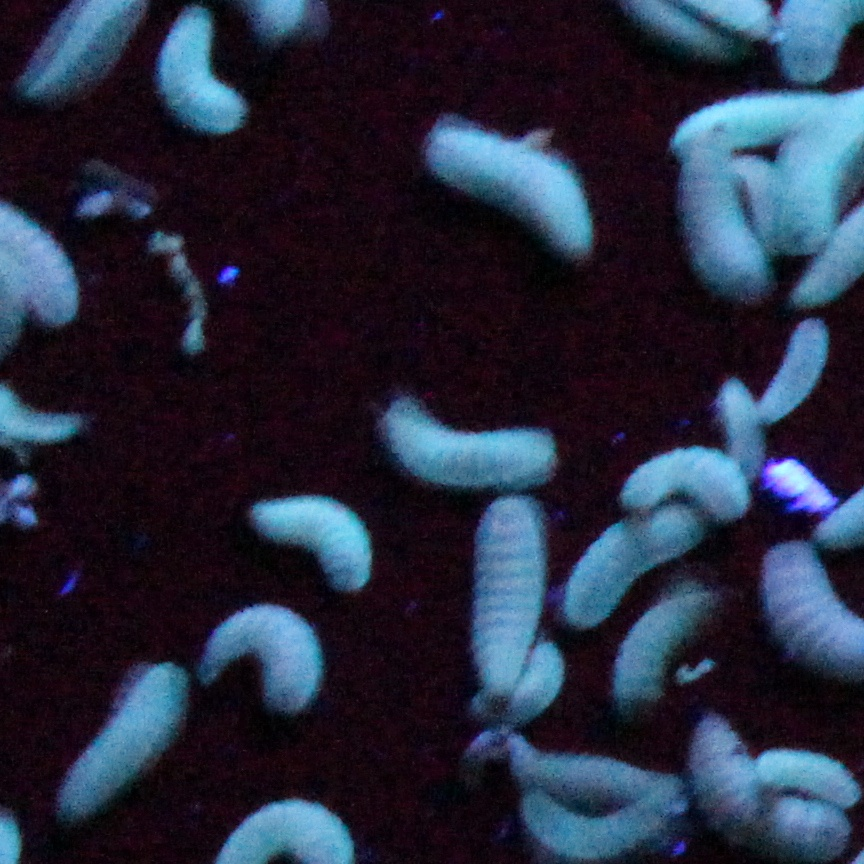larve: (427, 107, 592, 256), (698, 725, 845, 864), (63, 660, 178, 807), (559, 507, 698, 618), (389, 399, 556, 476), (245, 504, 370, 590), (217, 607, 315, 707), (166, 9, 247, 127), (626, 585, 701, 709), (475, 499, 527, 674), (512, 746, 664, 804), (527, 799, 663, 862), (629, 448, 747, 518), (694, 156, 750, 293), (763, 325, 827, 420), (675, 95, 805, 141), (492, 642, 568, 713), (768, 746, 863, 799), (724, 383, 763, 478), (743, 155, 780, 251)
